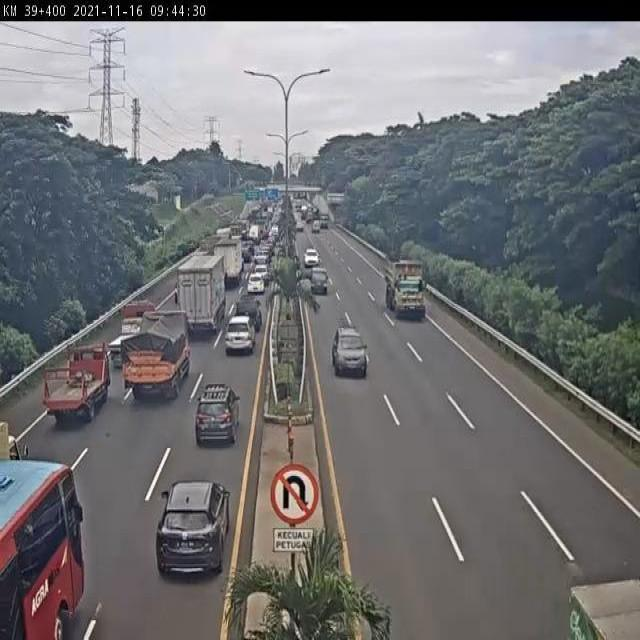car: (158, 481, 228, 576), (197, 384, 241, 447), (331, 328, 370, 375), (222, 316, 256, 356), (235, 296, 262, 332), (310, 269, 331, 296), (247, 274, 266, 294)
small truck: (45, 346, 113, 426), (105, 300, 161, 364)
truck-l-: (178, 255, 225, 333), (385, 258, 426, 318)
truck-m-: (119, 315, 188, 401), (212, 236, 244, 284)
